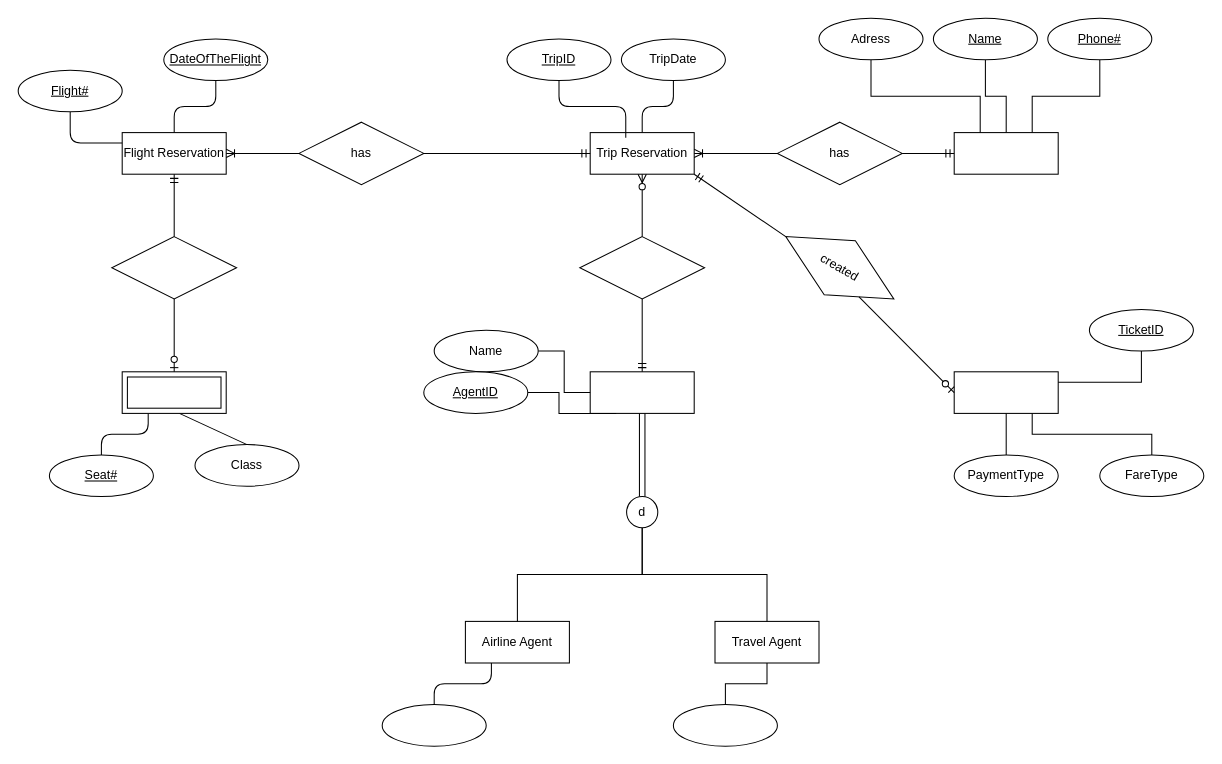
The diagram is 1222 pixels wide and 764 high, and some of its shapes have lost their labels. The centre of each missing label's shape, as x and y in pixels:
"AgencyName" goes at (724,725).
"Agent" goes at (641,392).
"AirlineName" goes at (433,725).
"makes" goes at (642,267).
"Passanger" goes at (1005,153).
"Reserves" goes at (174,267).
"Seat" goes at (173,392).
"Ticket" goes at (1005,392).
